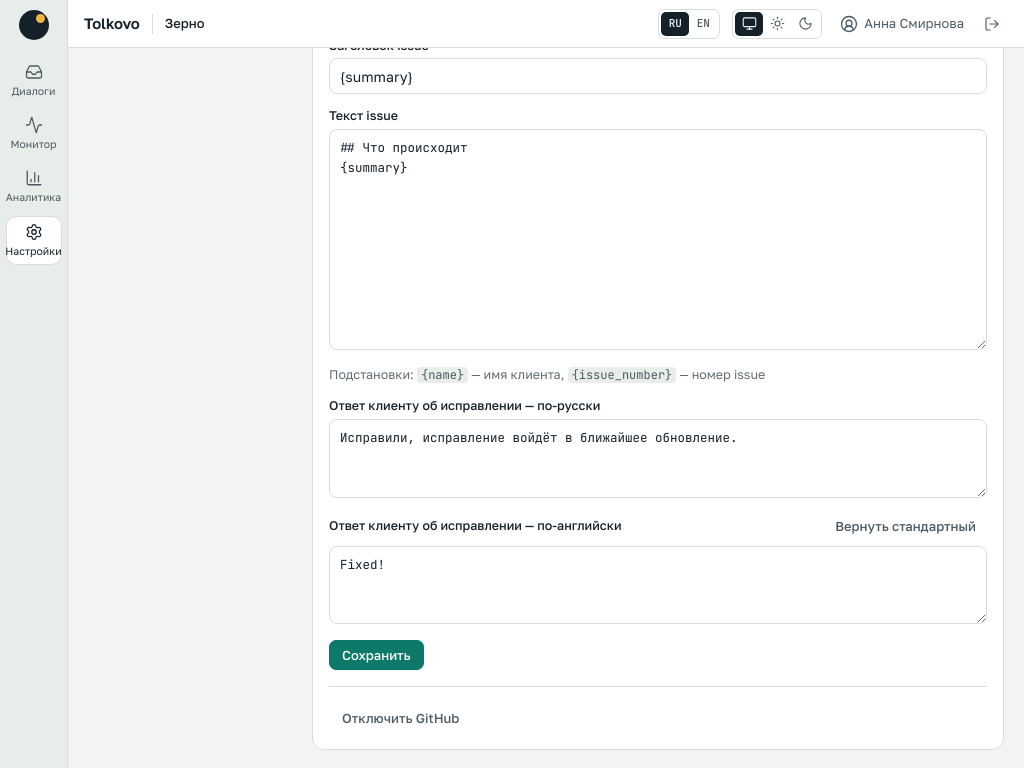
Test: integrations settings › restores a default template
(page scrolled)
Expected: the text box labelled "Ответ клиенту об исправлении — по-английски" holds "Fixed!", 329,546 -> 987,624
Click the button "Вернуть стандартный" at (906,526), box 824,514 -> 987,540
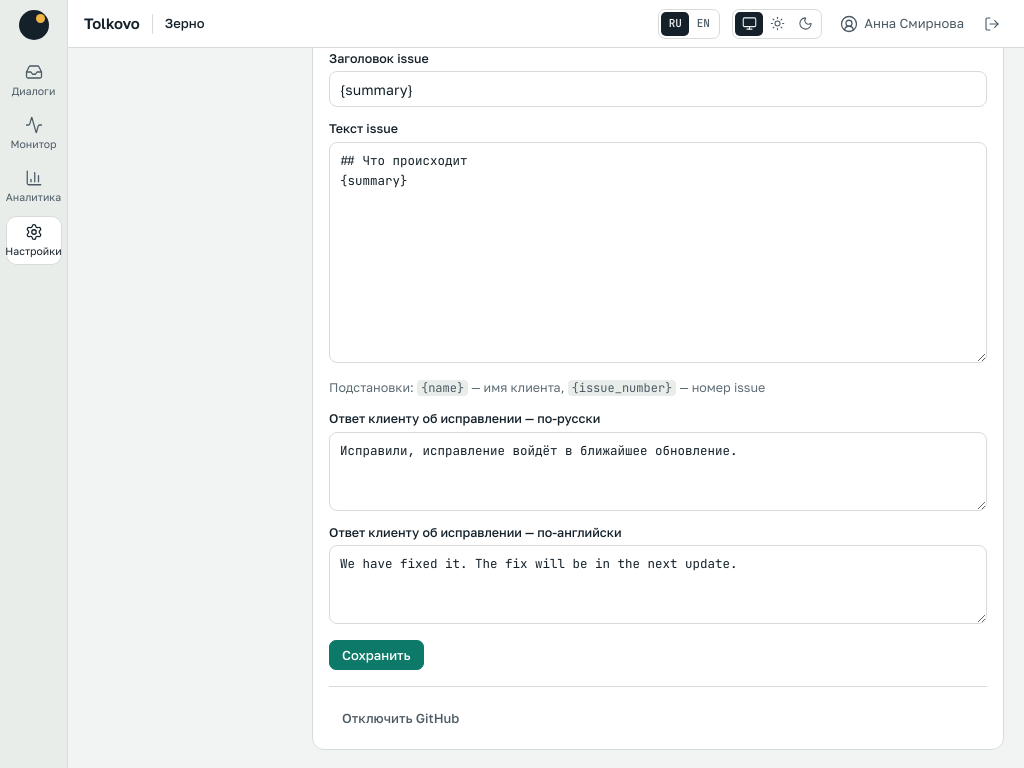
Expected: the text box labelled "Ответ клиенту об исправлении — по-английски" holds "We have fixed it. The fix will be in the next update.", 329,545 -> 987,624
